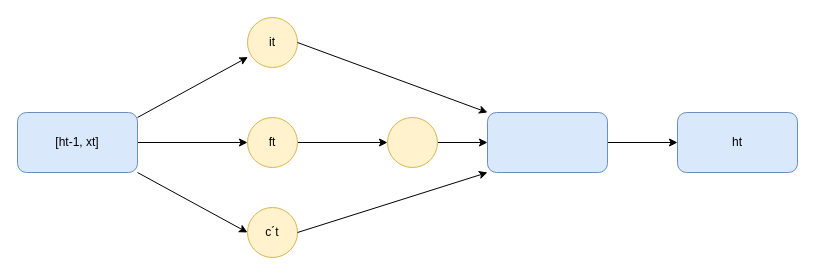
The diagram is 815 pixels wide and 275 high, and some of its shapes have lost their labels. Each missing label, with the box of its shape:
Ct: (486, 112, 608, 172)
ot: (386, 116, 438, 168)
